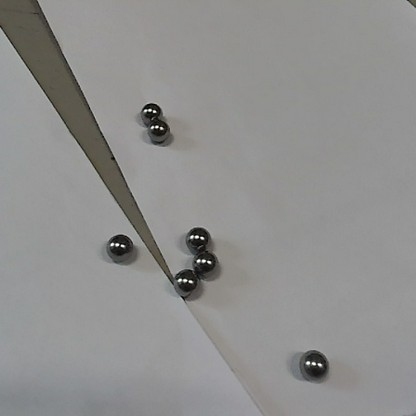ironball: (298, 348, 328, 380), (107, 233, 133, 261), (172, 269, 197, 294), (184, 226, 209, 247), (193, 251, 216, 271), (140, 102, 159, 122), (148, 122, 168, 141)
